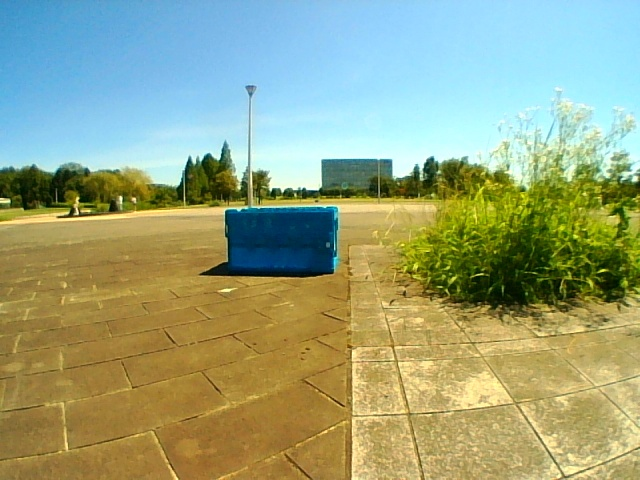blue_box: (227, 209, 339, 271)
